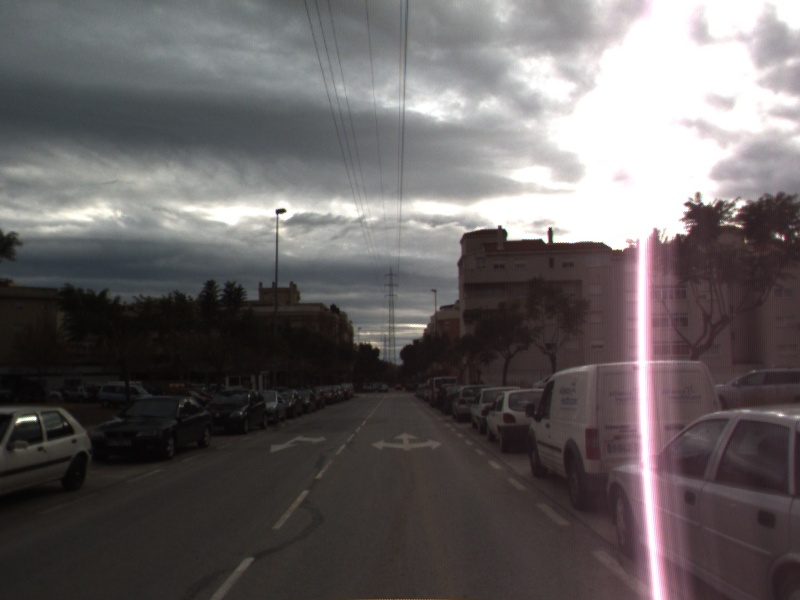STRAIGHT_LEFT_RIGHT: (369, 430, 444, 453)
